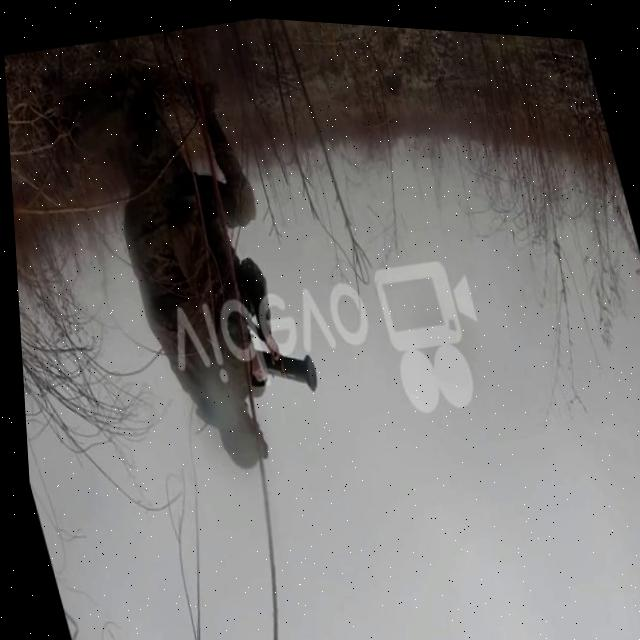rocket: (244, 334, 317, 401)
